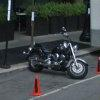Motorcycle: (22, 32, 90, 76)
